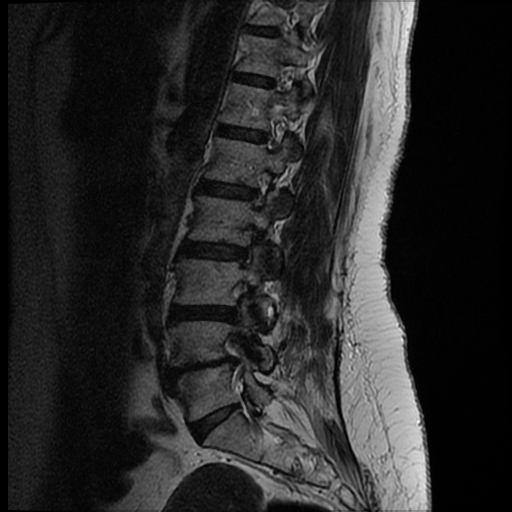LFS0: (242, 165, 277, 217)
